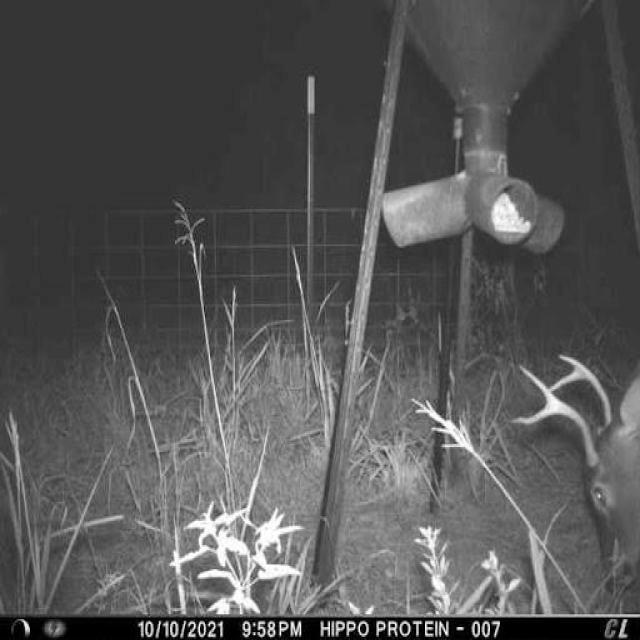Deer: (511, 336, 639, 604)
